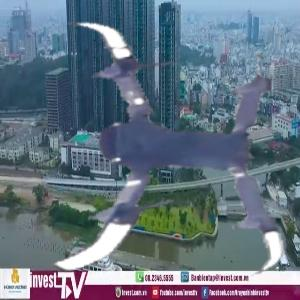drone: (7, 7, 294, 294)
